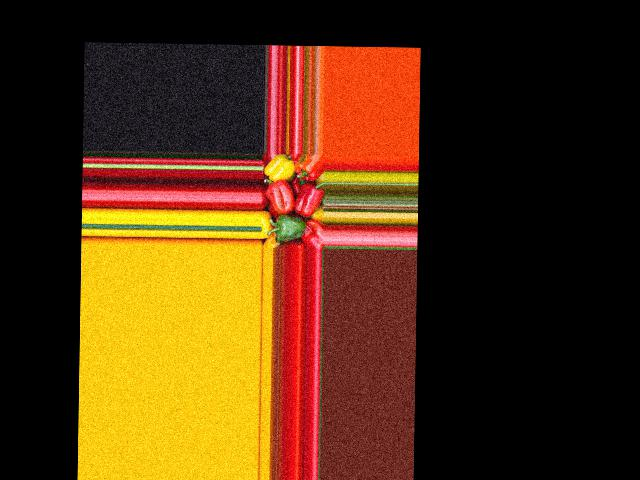bell_pepper: (262, 153, 297, 183)
